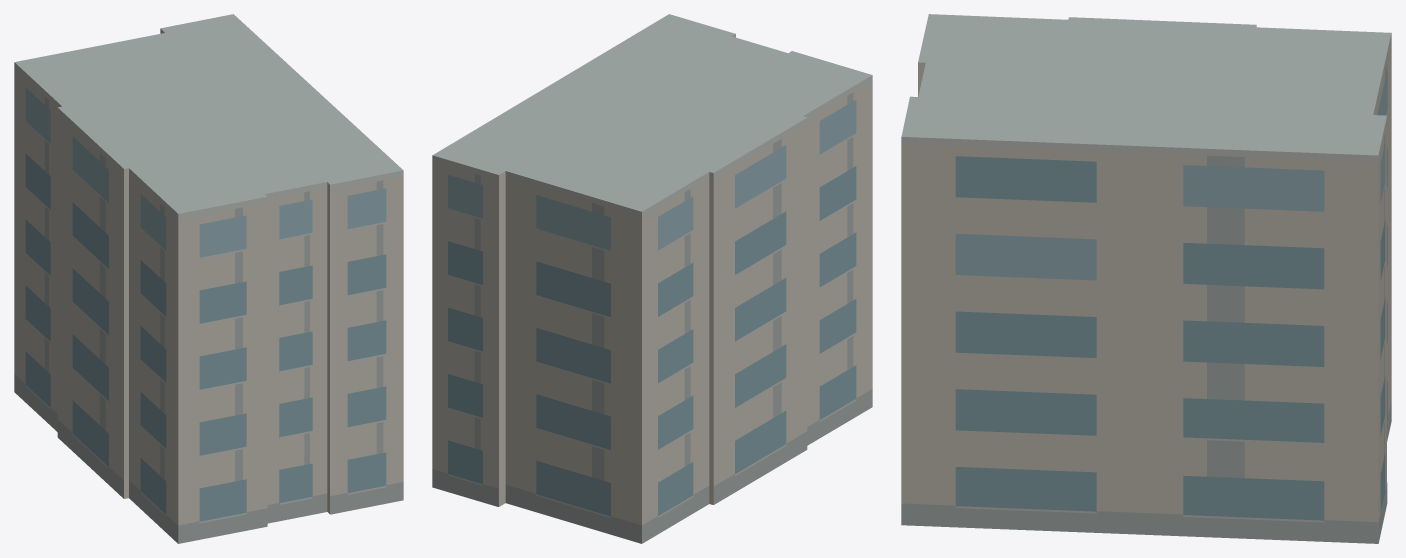
File: survey-upis-32913194.glb
3 views of the same model, side by side, from view 1: azimuth 30°, elevation 25°; view 2: azimuth 150°, elevation 25°; view 3: azimuth 270°, elevation 25° (orthographic). The views are drawn at different scales.
Parts seen in each view (by area): view 1: survey-upis-32913194.tmp; view 2: survey-upis-32913194.tmp; view 3: survey-upis-32913194.tmp.
Part boxes in pixels (<box>): survey-upis-32913194.tmp: <box>14,14,403,543</box>; survey-upis-32913194.tmp: <box>432,14,872,543</box>; survey-upis-32913194.tmp: <box>901,14,1391,543</box>.
Size of the model in its own units: 10.71 by 13.7 by 15.68.
